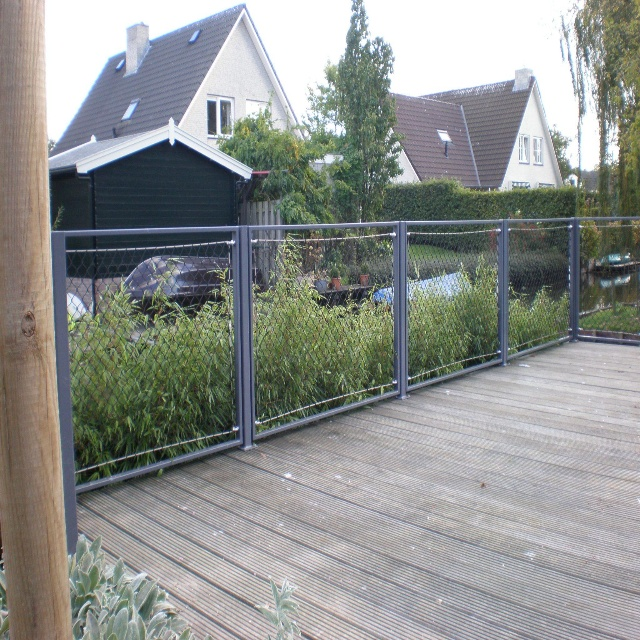obstacle: (3, 0, 638, 640)
